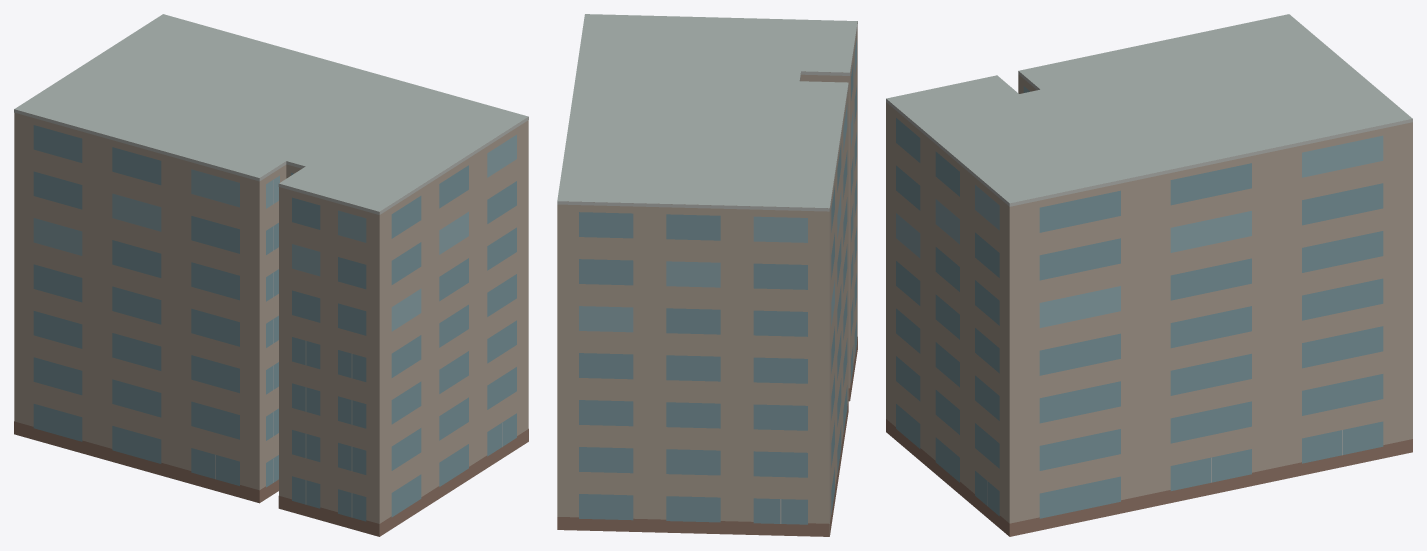
File: survey-upis-32701125.glb
3 views of the same model, side by side, from view 1: azimuth 30°, elevation 25°; view 2: azimuth 150°, elevation 25°; view 3: azimuth 270°, elevation 25° (orthographic). The views are drawn at different scales.
Visible parts, largest first — view 1: survey-upis-32701125.tmp; view 2: survey-upis-32701125.tmp; view 3: survey-upis-32701125.tmp.
Boxes of the visible parts, x1,y1,x2,y2 form: survey-upis-32701125.tmp: [14, 14, 528, 536]; survey-upis-32701125.tmp: [557, 14, 857, 536]; survey-upis-32701125.tmp: [886, 14, 1412, 536].
Bounding box in the file's own units: 29 × 23.8 × 34.08.
